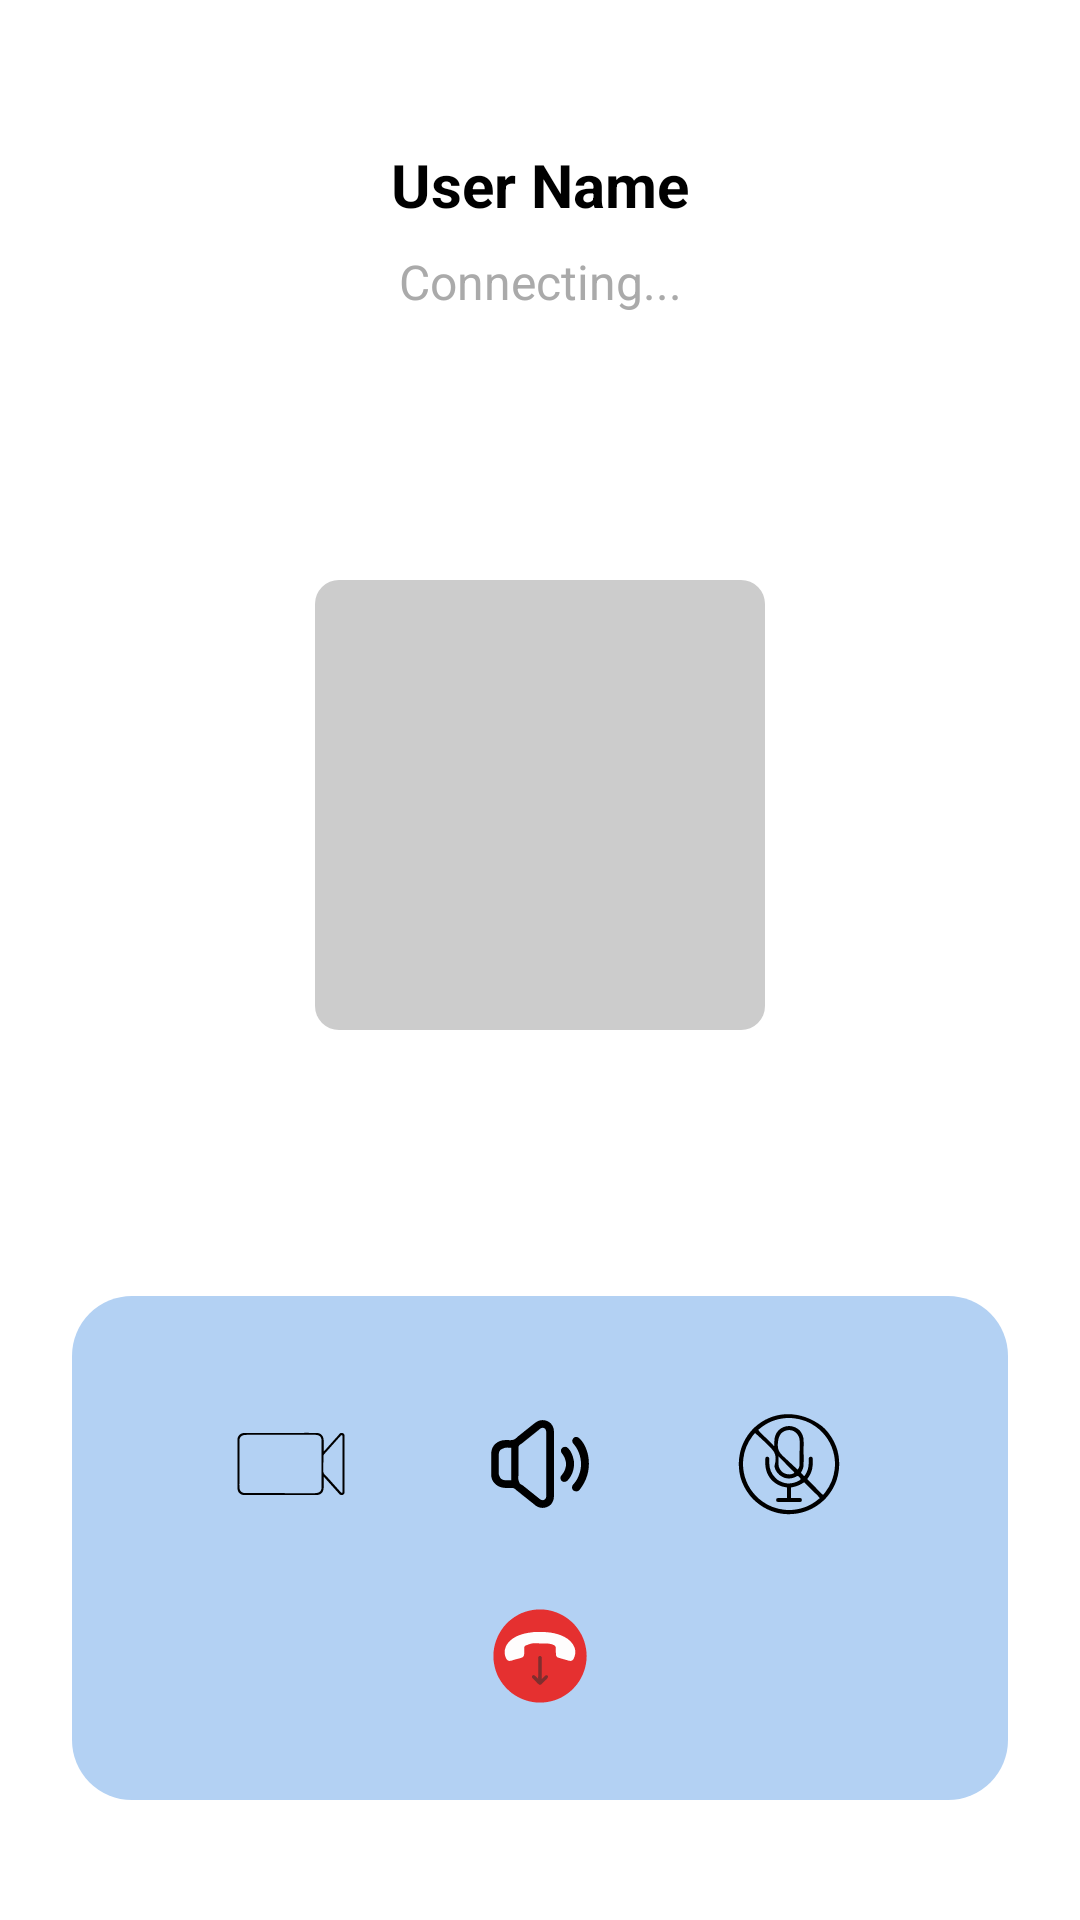

Icons on this 1080px x 1920px Android screen, each with the point to tap as [x,y]:
hang up: [540,1656]
mute: [789,1464]
video camera: [291,1463]
volume: [540,1464]
